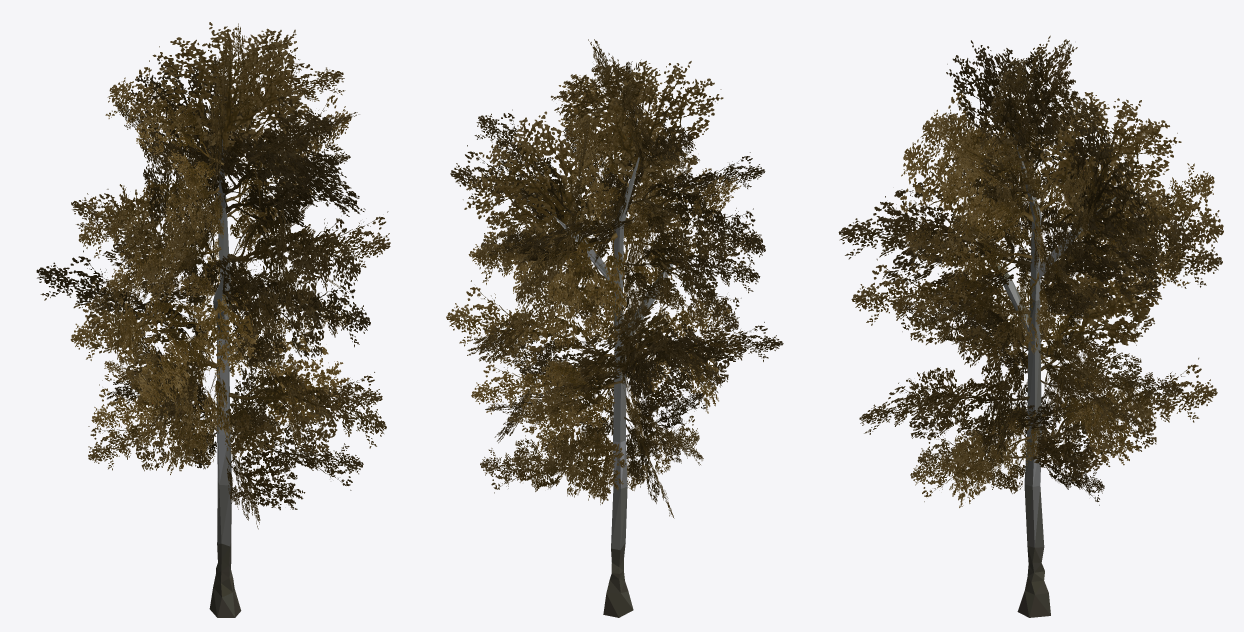
File: kiefer_herbst.glb
3 renders of one model, left to right at view 1: azimuth 30°, elevation 25°; view 2: azimuth 150°, elevation 25°; view 3: azimuth 270°, elevation 25°, orthographic. The views are drawn at different scales.
Visible parts, largest first — view 1: laub, rinde; view 2: laub, rinde; view 3: laub, rinde.
Part boxes in pixels (x1,y1,x2,y2): laub: (36, 22, 390, 529); rinde: (208, 139, 241, 617); laub: (446, 39, 783, 518); rinde: (554, 157, 682, 617); laub: (838, 35, 1223, 507); rinde: (976, 134, 1116, 617).
Bounding box in the file's own units: 4.74 × 8.5 × 5.49.
Materials: 2 (1 with a texture image).
